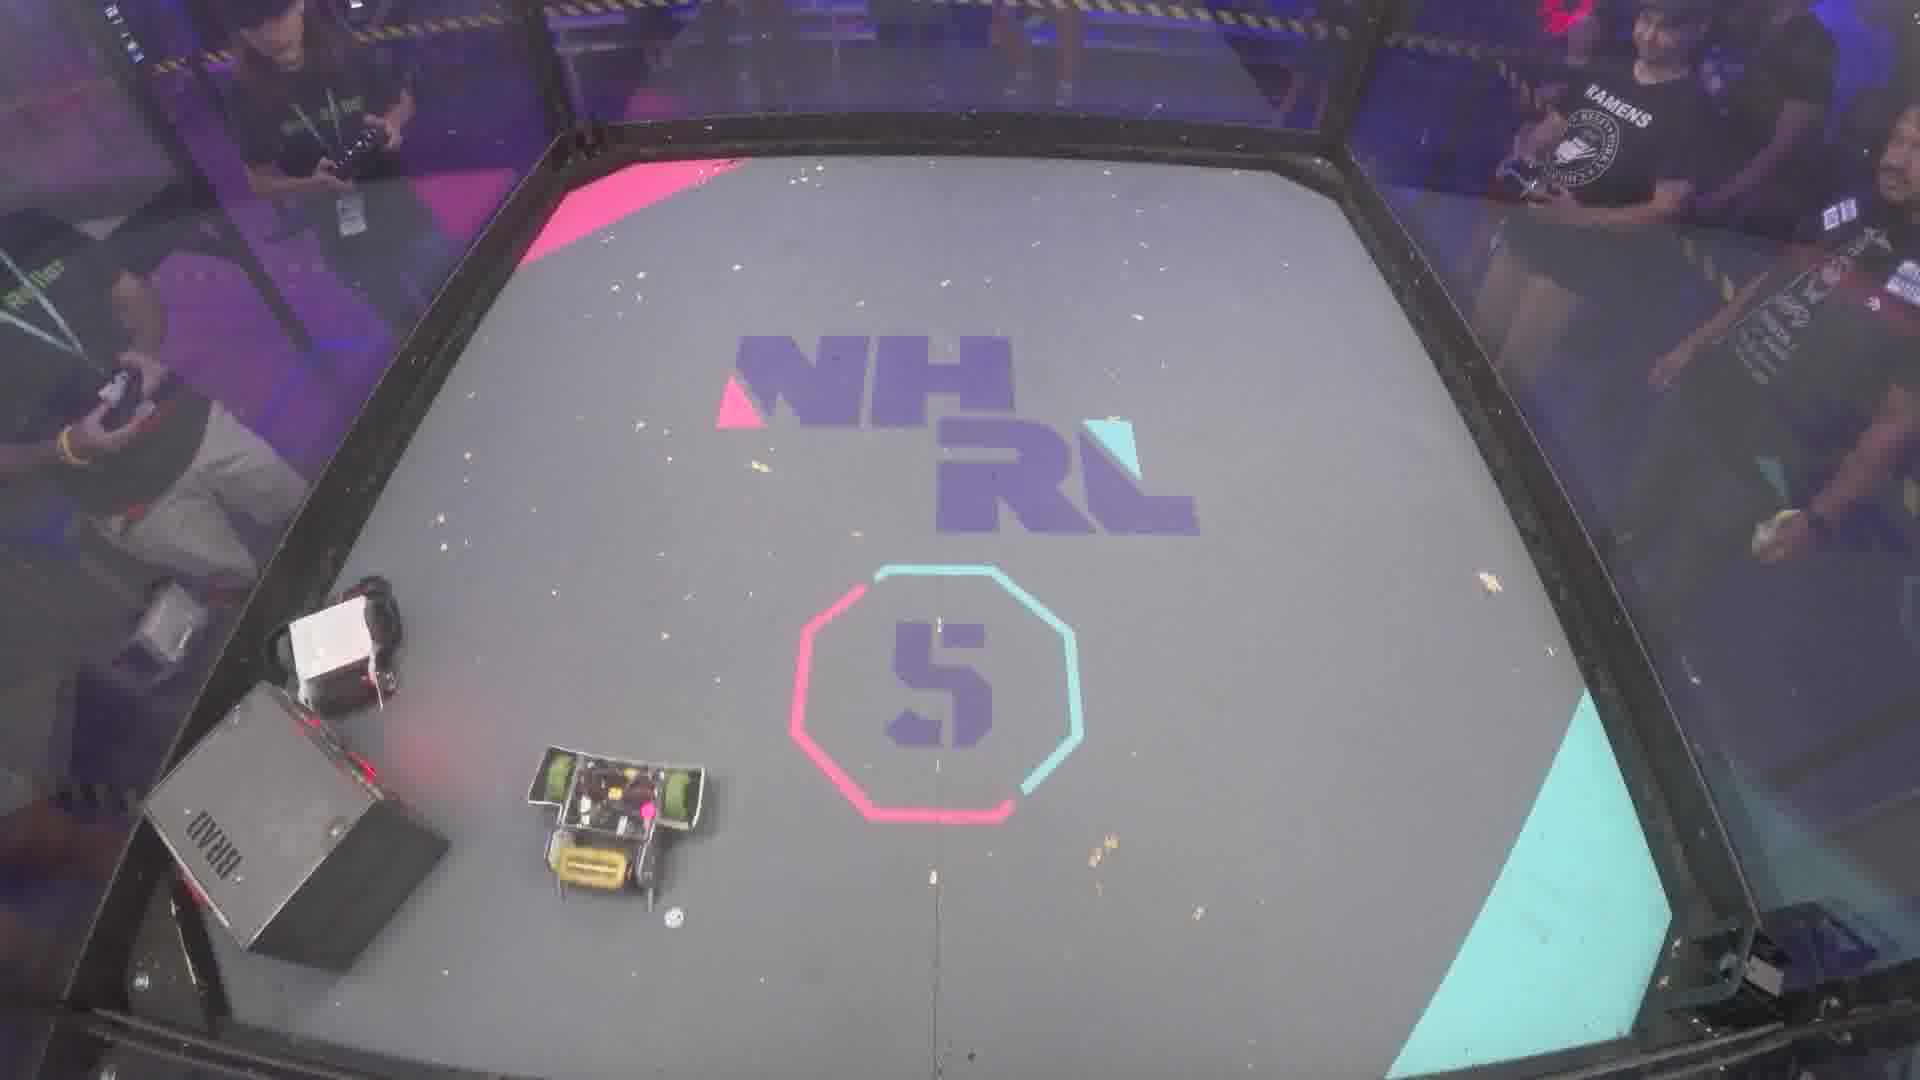combatbot: (525, 744, 711, 914), (265, 574, 406, 716)
housebot: (138, 680, 455, 973)
